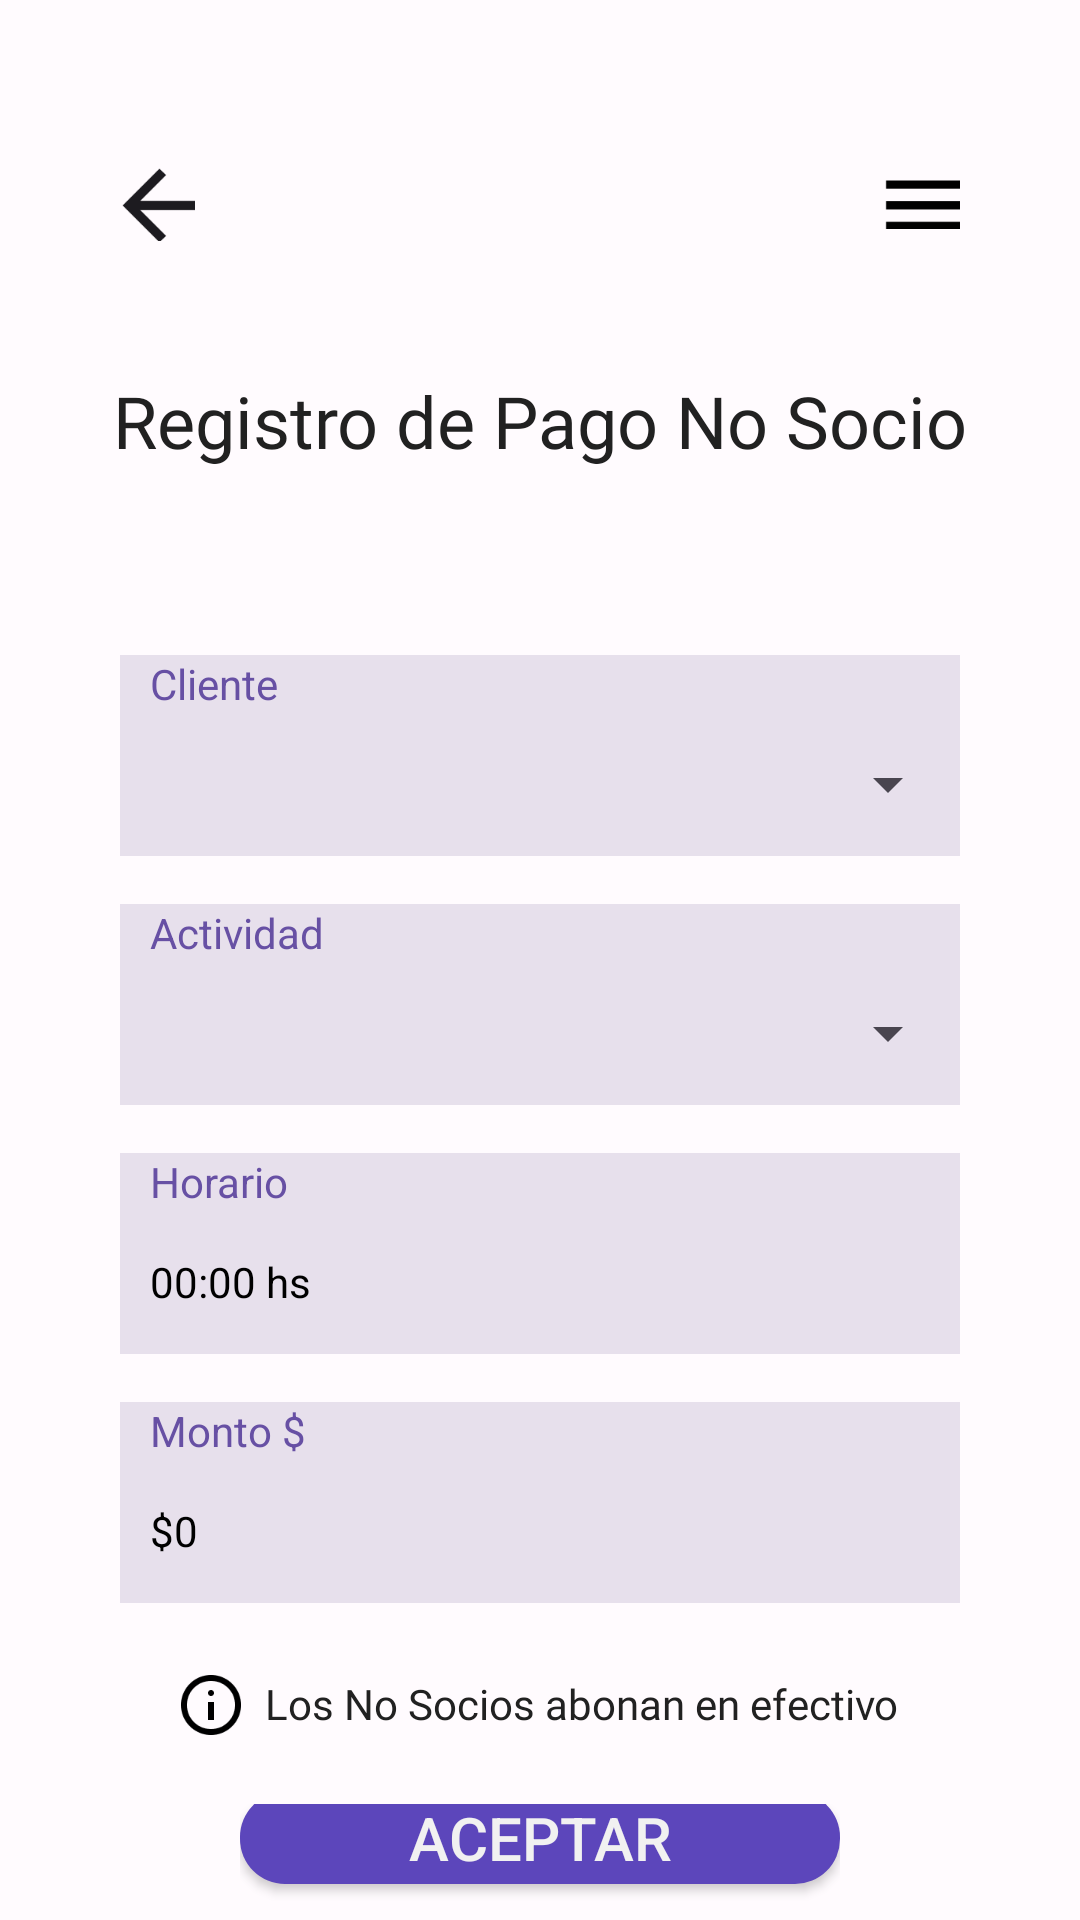

Point at icon controls on the screen. Image size 1080 × 1920, points as [x,y].
Menú: [922,204]
Volver: [158,204]
